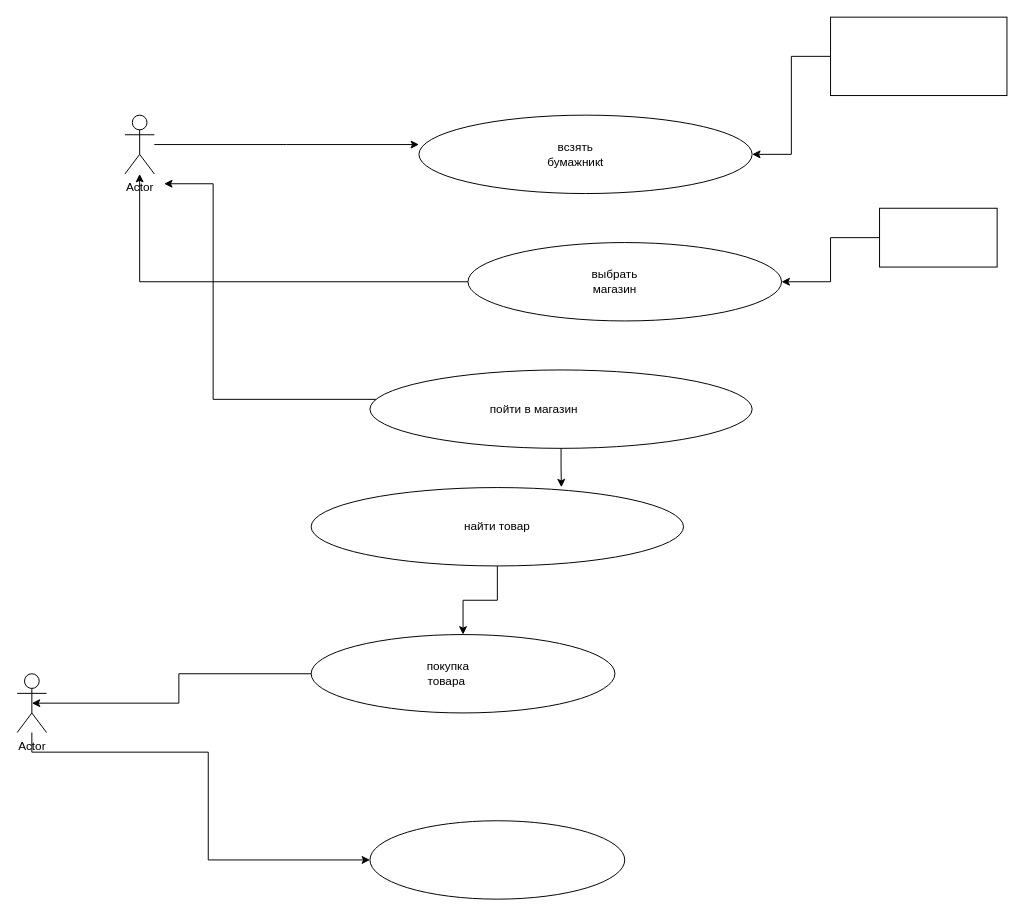
Some shapes in this 1024 by 916 pixel diagram are drawn without their labels. The shapes that lost their labels are listed below. From the top down, each one's box as (x1, y1, x2, y2) in pixels, then its label:
(830, 16, 1007, 96): проверить есть ли там деньги
(879, 207, 997, 267): првоерить открыт ли он
(369, 820, 625, 899): выдача товара
